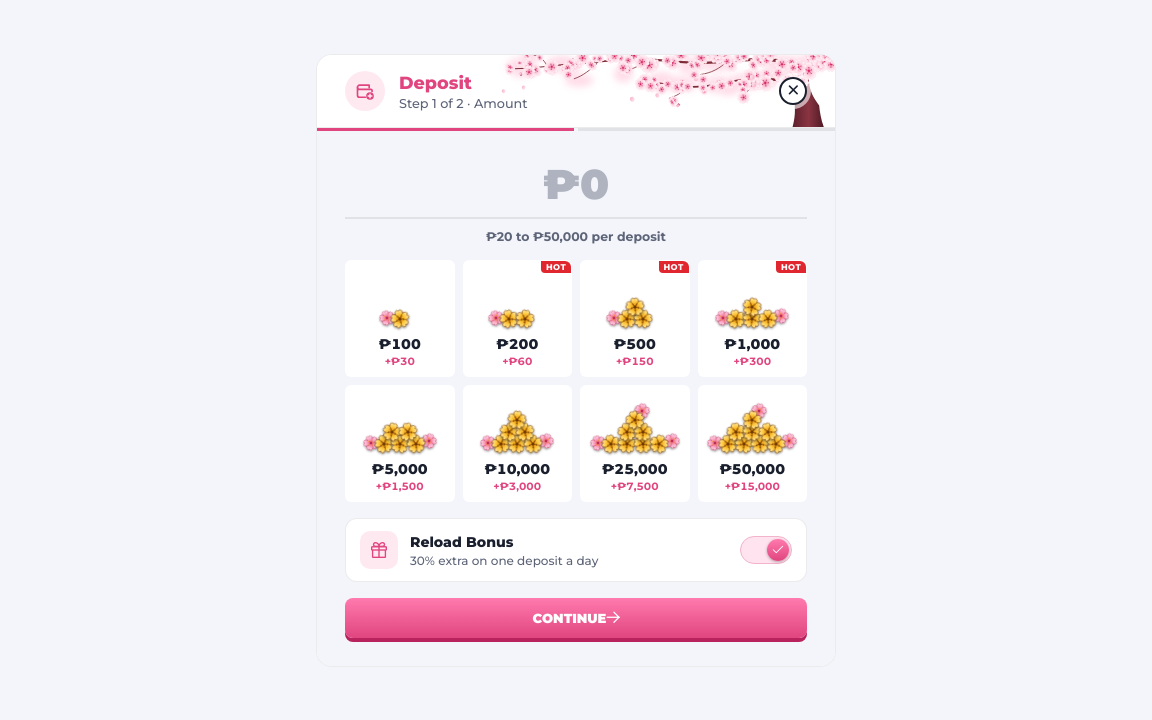
Test: deposit › refuses a deposit that would pass the balance cap
The image size is (1152, 720).
Click the button "₱100 +₱30".
click(400, 318)  # box [345, 260, 454, 376]
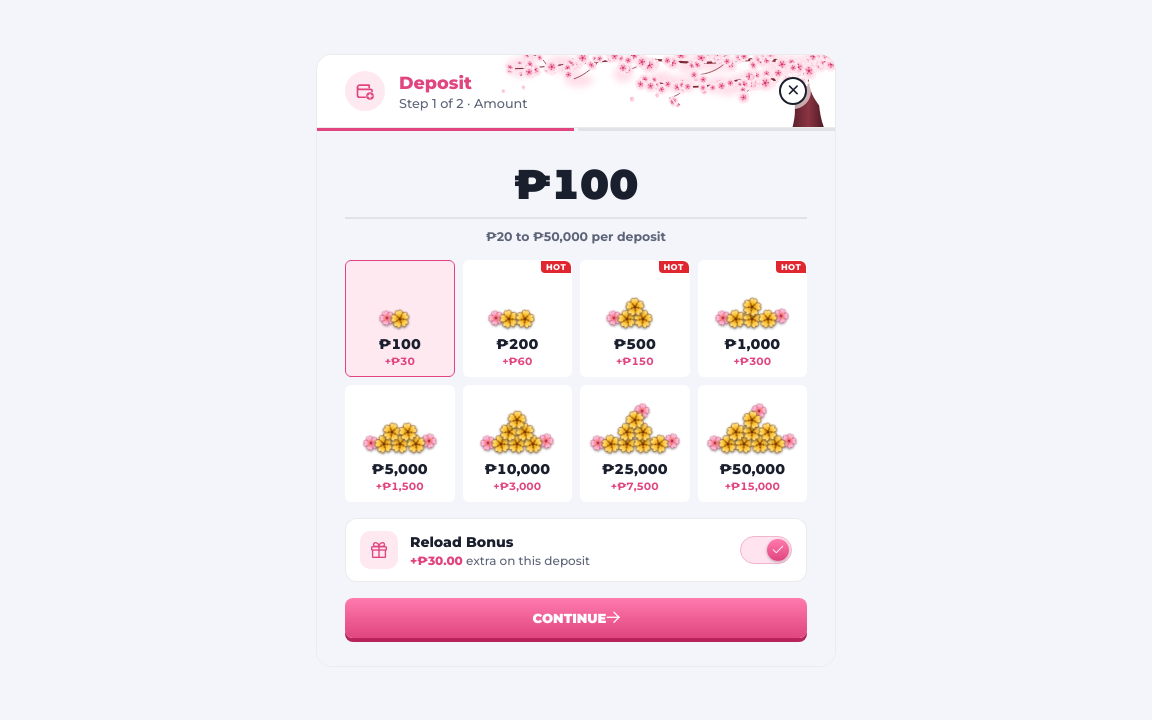
Click the button "Continue".
click(576, 618)  # box [345, 598, 807, 638]
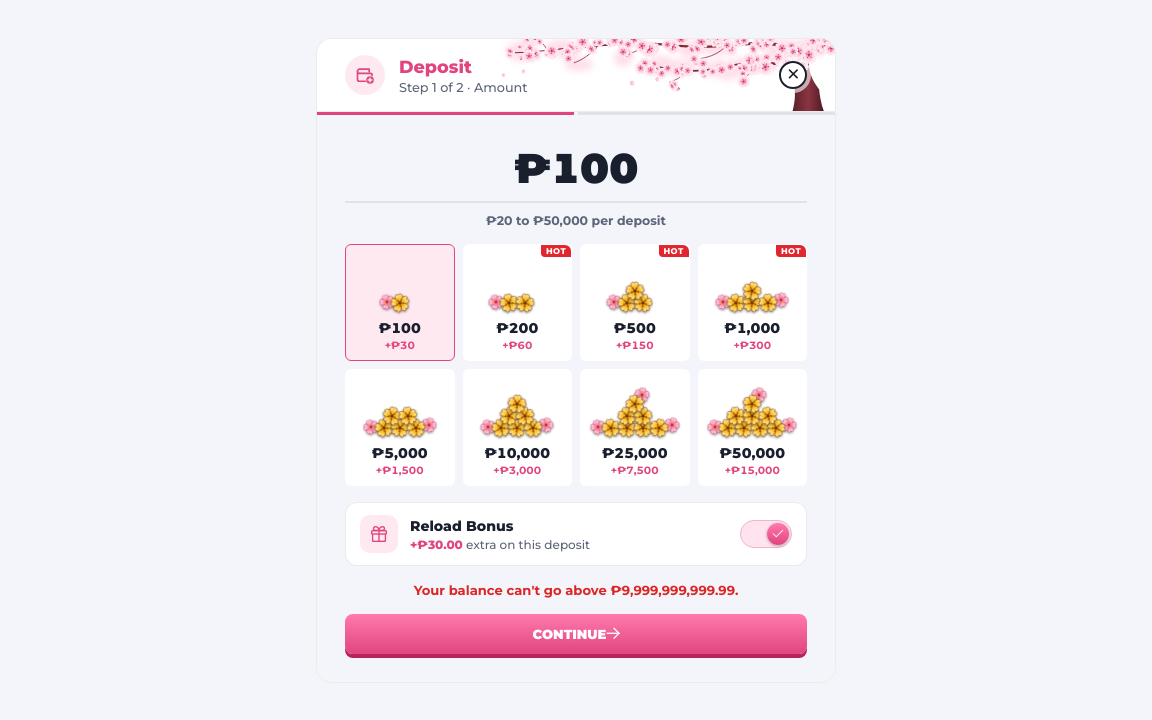
Now the message shows "Your balance can't go above", box [414, 582, 738, 598]
